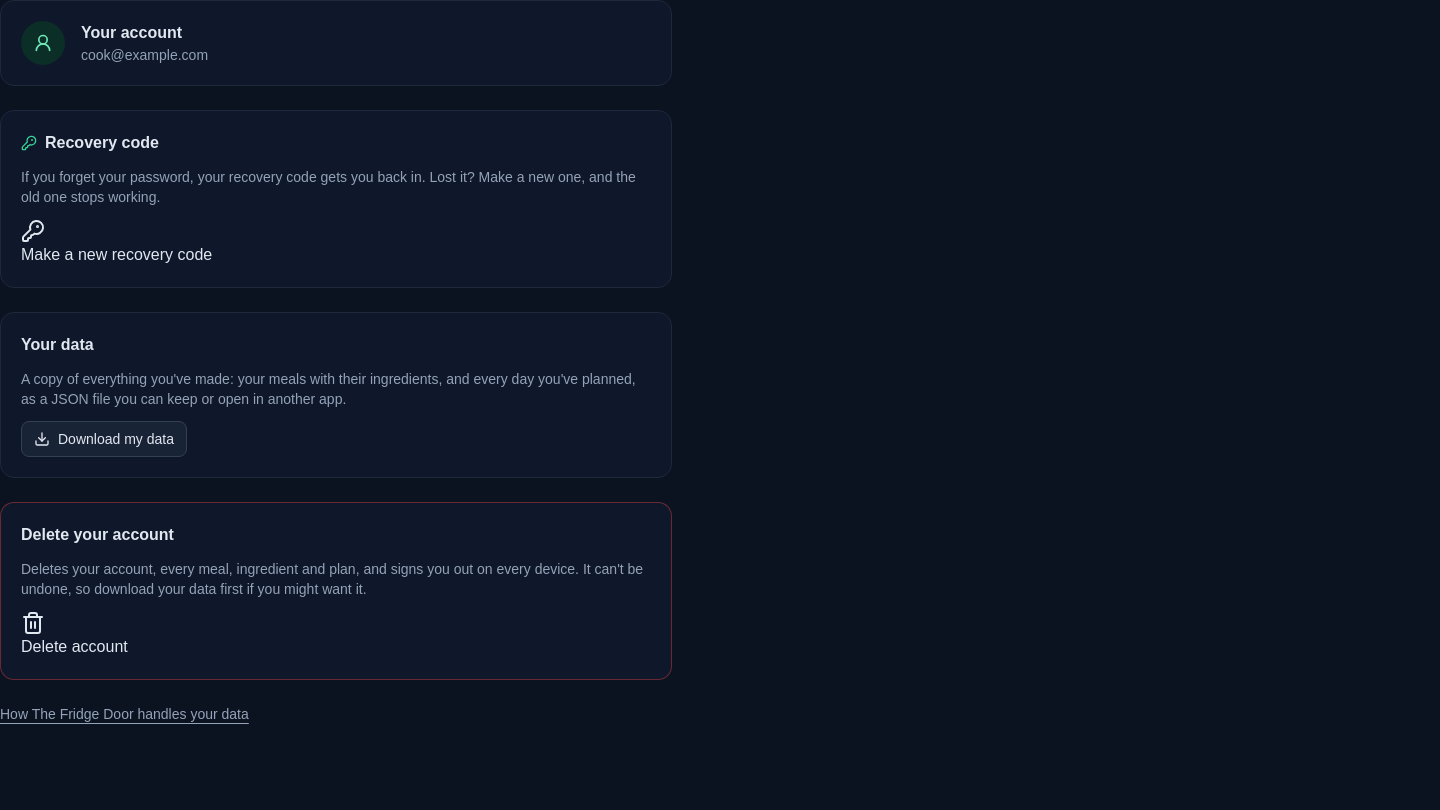
Test: deleting › asks an account for its password, and sends it
Click the button "Delete account" at (74, 635), box [21,611,128,659]
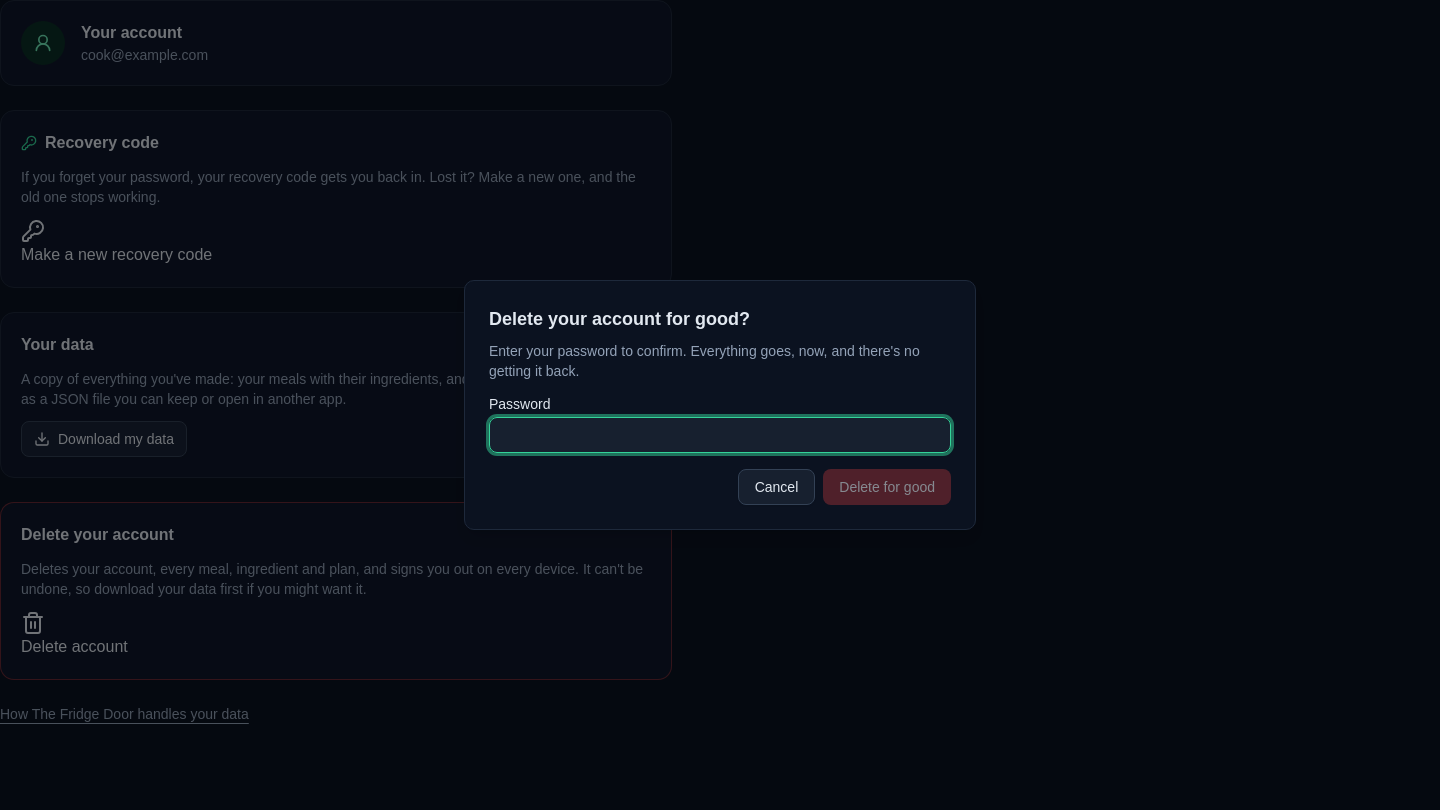
Expected: the button "Delete for good" is disabled, [823,469,951,505]
Type keys "lettuce harbour spoon{Enter}"
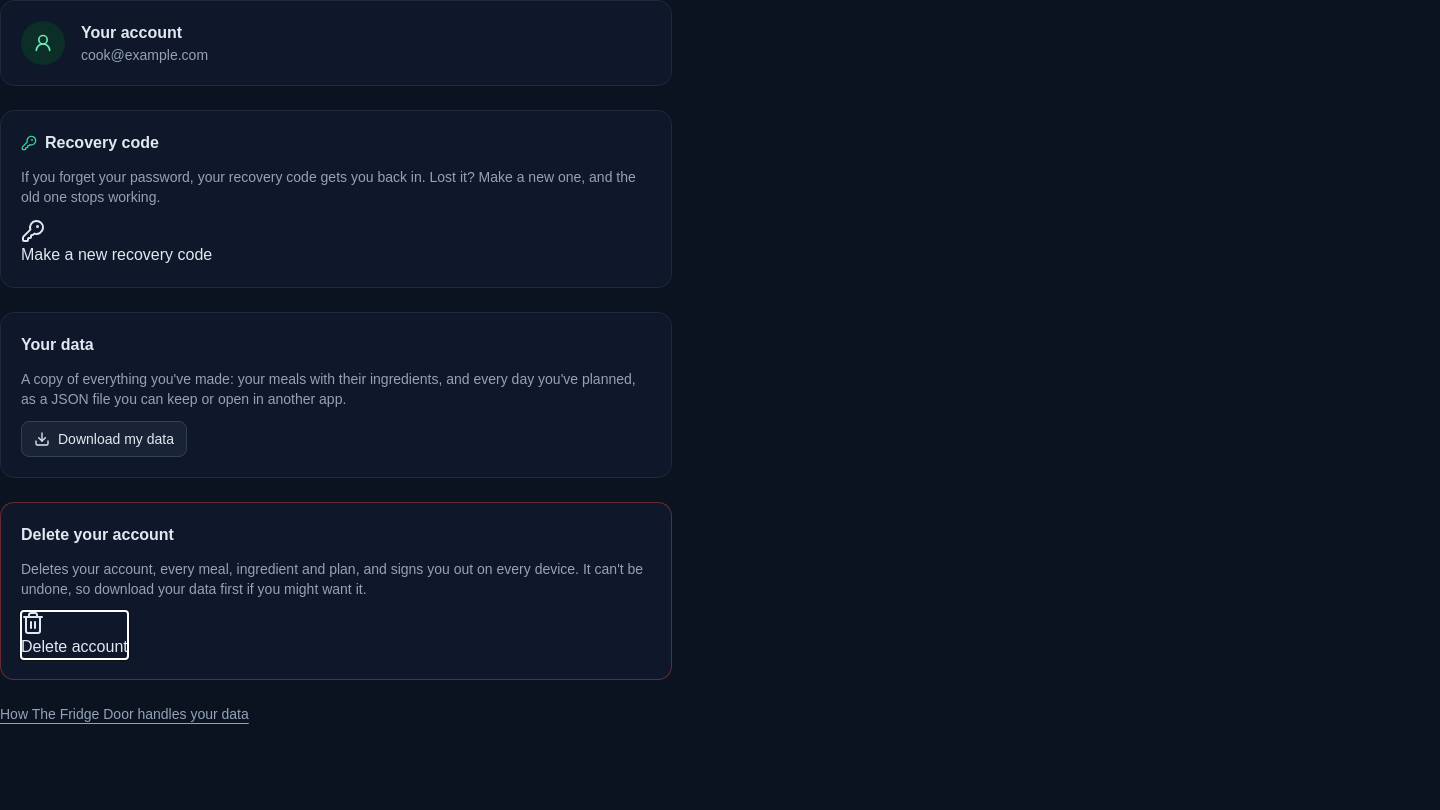
Expected: the dialog is gone
